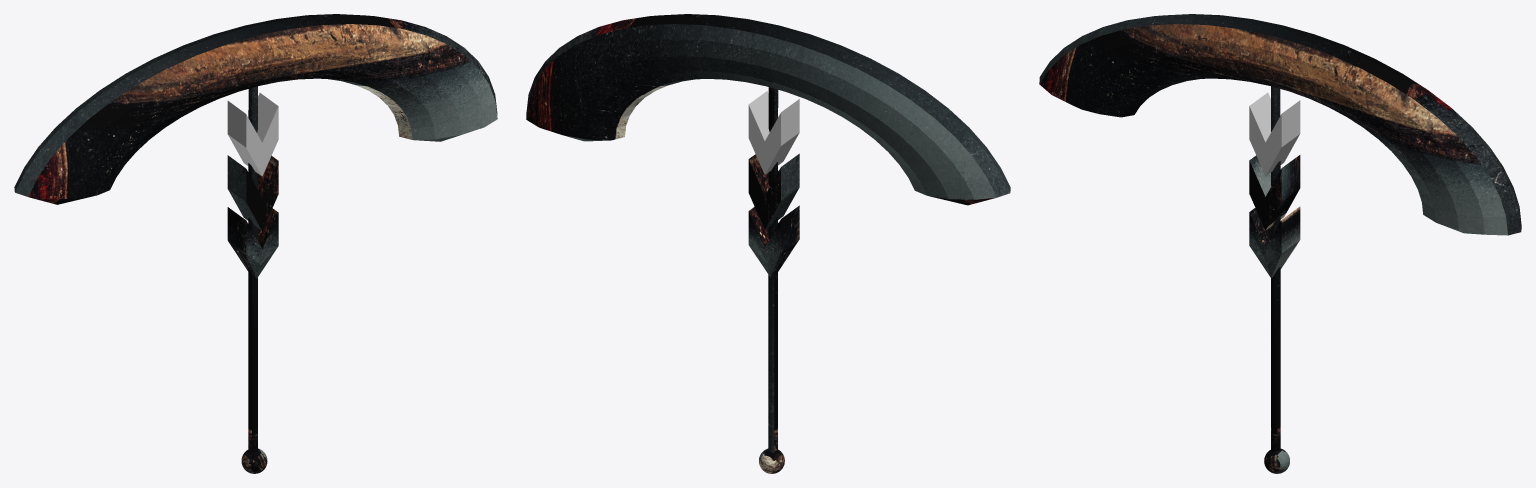
File: weapon.obj
3 views of the same model, side by side, from view 1: azimuth 30°, elevation 25°; view 2: azimuth 150°, elevation 25°; view 3: azimuth 330°, elevation 25° (orthographic).
Parts seen in each view (by area): view 1: 立方体.001_立方体.002; view 2: 立方体.001_立方体.002; view 3: 立方体.001_立方体.002.
Part boxes in pixels (<box>): 立方体.001_立方体.002: <box>14,14,497,473</box>; 立方体.001_立方体.002: <box>526,14,1010,473</box>; 立方体.001_立方体.002: <box>1039,14,1521,473</box>.
Bounding box in the file's own units: 19.52 × 17.24 × 1.9.
